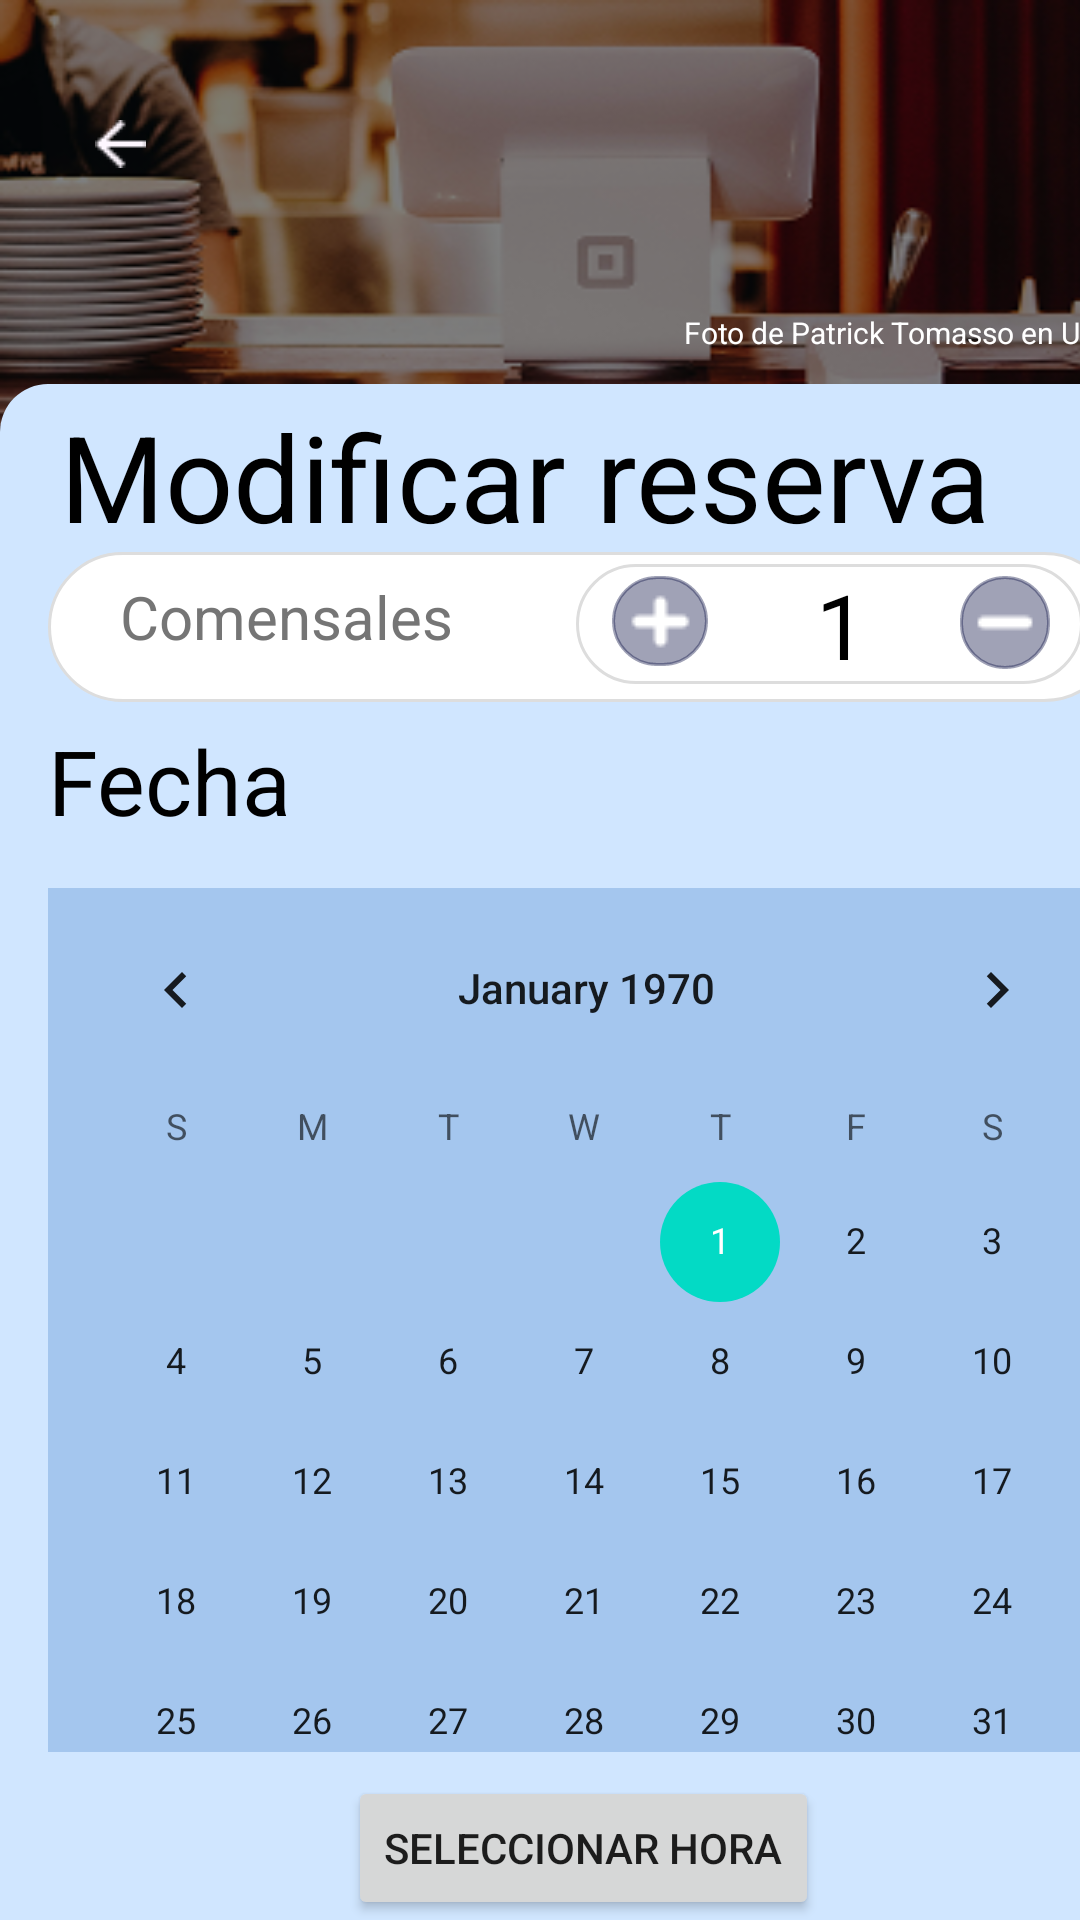

Where to tap for icons on this 1080 x 1920 app screen, as [x,y]:
flecha atras: [120,144]
mas: [660,621]
menos: [1005,622]
